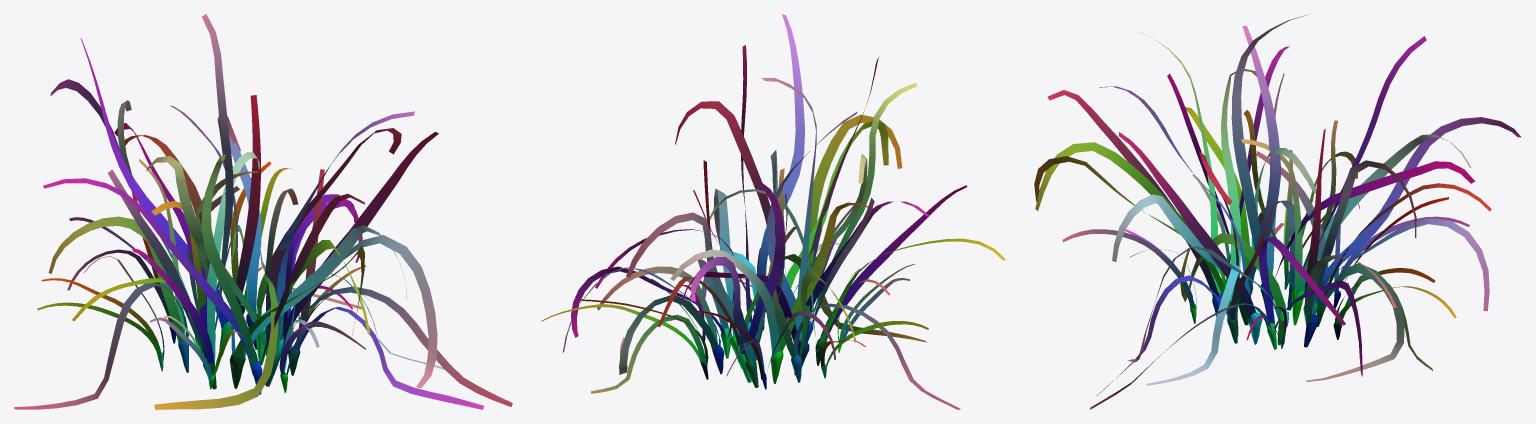
The model's file is Ribbon_Grass_tbdpec3r_High_tbdpec3r_VarB_LOD0.fbx.
The picture shows the model from 3 angles, left to right: view 1: azimuth 30°, elevation 25°; view 2: azimuth 150°, elevation 25°; view 3: azimuth 270°, elevation 25°; orthographic projection. The views are drawn at different scales.
Parts seen in each view (by area): view 1: _dffe_VarB_LOD0; view 2: _dffe_VarB_LOD0; view 3: _dffe_VarB_LOD0.
Boxes of the visible parts, left/top/right/bottom form: _dffe_VarB_LOD0: left=14, top=14, right=512, bottom=409; _dffe_VarB_LOD0: left=541, top=14, right=1005, bottom=409; _dffe_VarB_LOD0: left=1034, top=14, right=1521, bottom=409.
Size of the model in its own units: 53.05 by 44.95 by 63.03.
